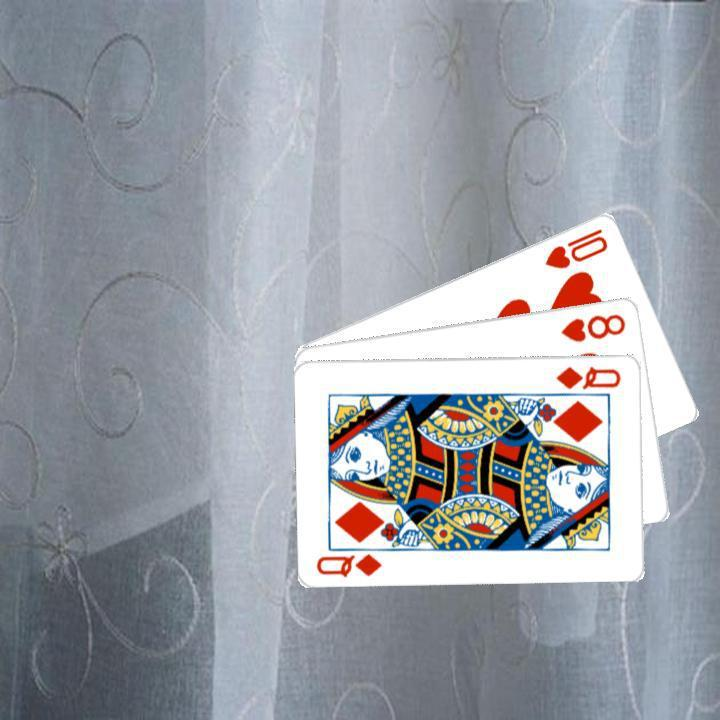10: (541, 223, 610, 271)
8: (557, 308, 628, 344)
Q: (552, 361, 623, 391), (312, 549, 385, 578)
